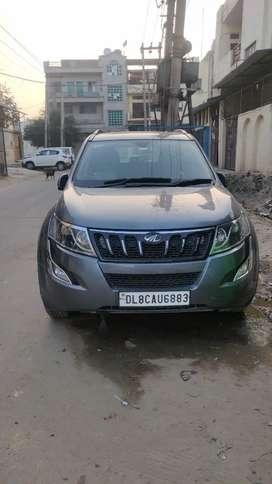DL8CAU6883: (117, 289, 189, 306)
